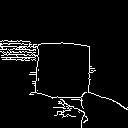cube: (29, 33, 110, 104)
